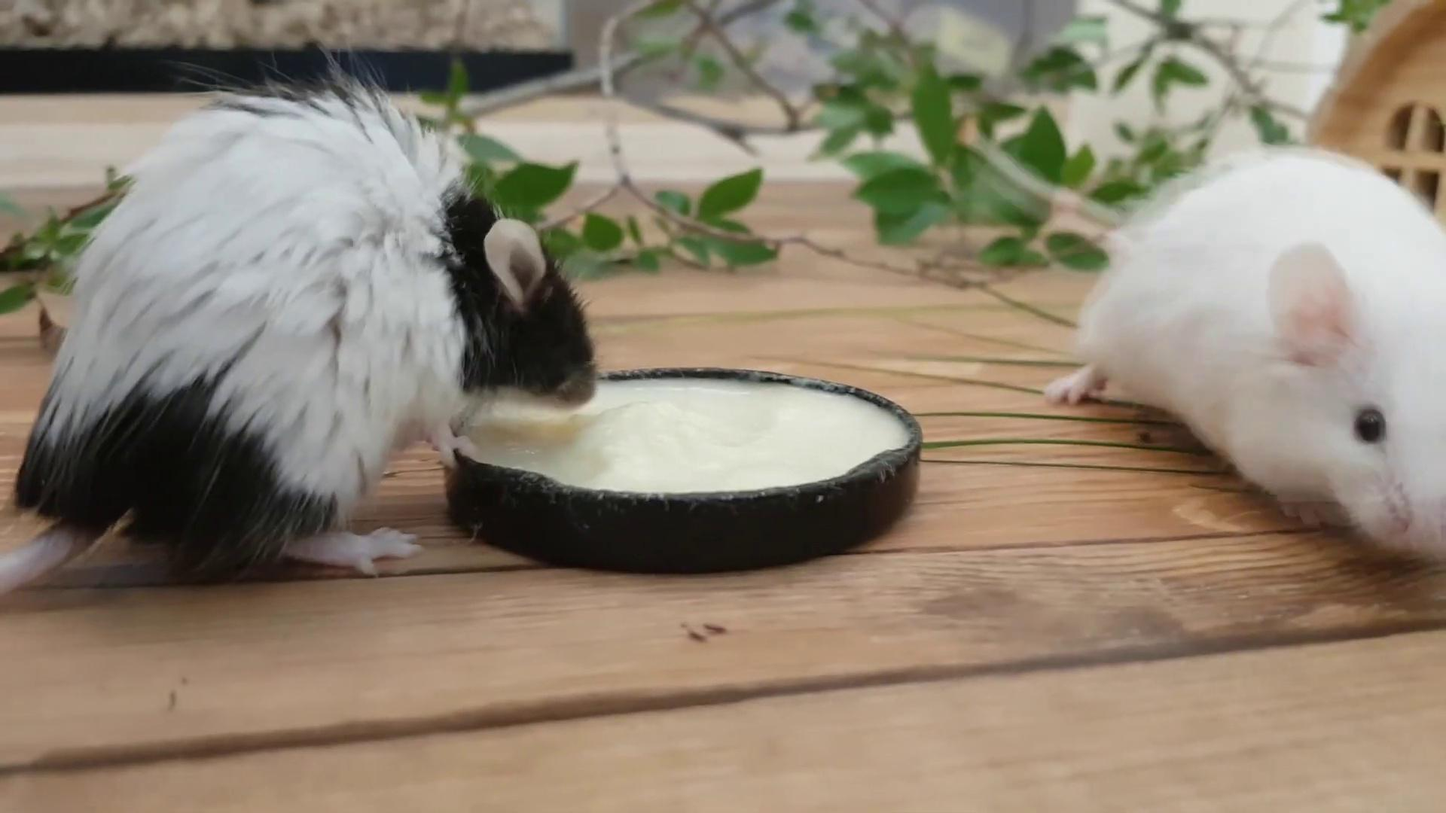rat: (2, 95, 598, 587), (978, 142, 1446, 558)
